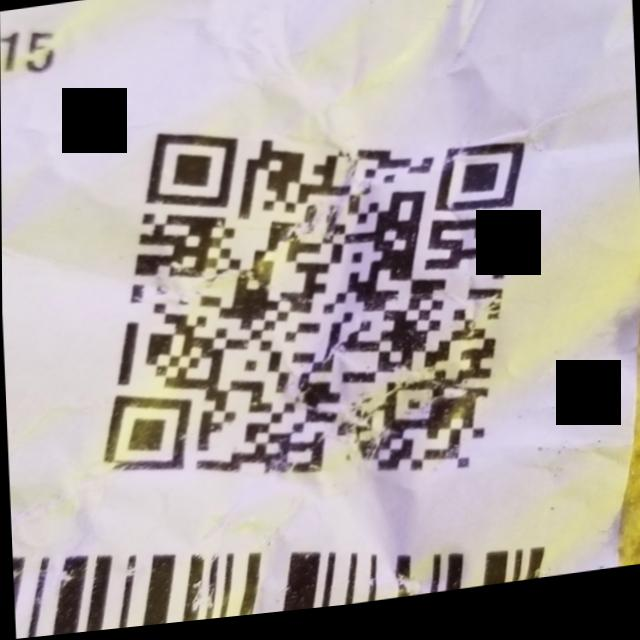QR_CODE: (79, 77, 547, 544)
